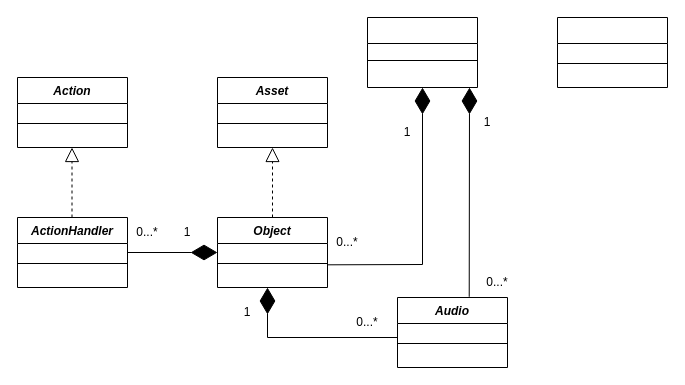
The diagram is 685 pixels wide and 385 high, and some of its shapes have lost their labels. Each missing label, with the box of its shape:
Camera: (556, 16, 668, 88)
Scene: (366, 16, 478, 88)
